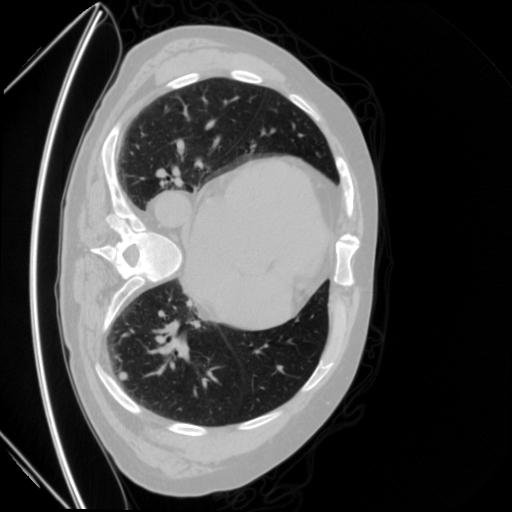nodule: (117, 371, 131, 385)
